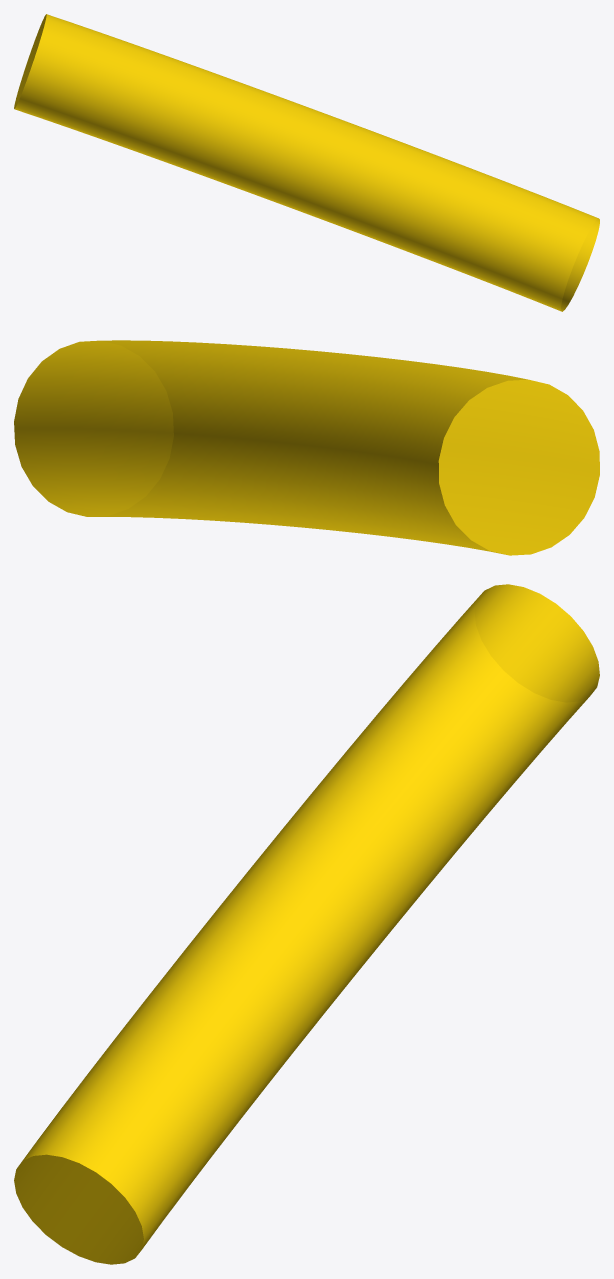
File: Event_421127236_track_32.fbx
The picture shows the model from 3 angles, top to bottom: view 1: azimuth 30°, elevation 25°; view 2: azimuth 150°, elevation 25°; view 3: azimuth 270°, elevation 25°; orthographic projection. The views are drawn at different scales.
Visible parts, largest first — view 1: Model; view 2: Model; view 3: Model.
Part boxes in pixels (x1,y1,x2,y2): Model: (14, 14, 599, 311); Model: (14, 340, 599, 555); Model: (14, 584, 599, 1264).
Size of the model in its own units: 0.2067 by 0.1195 by 0.1564.
